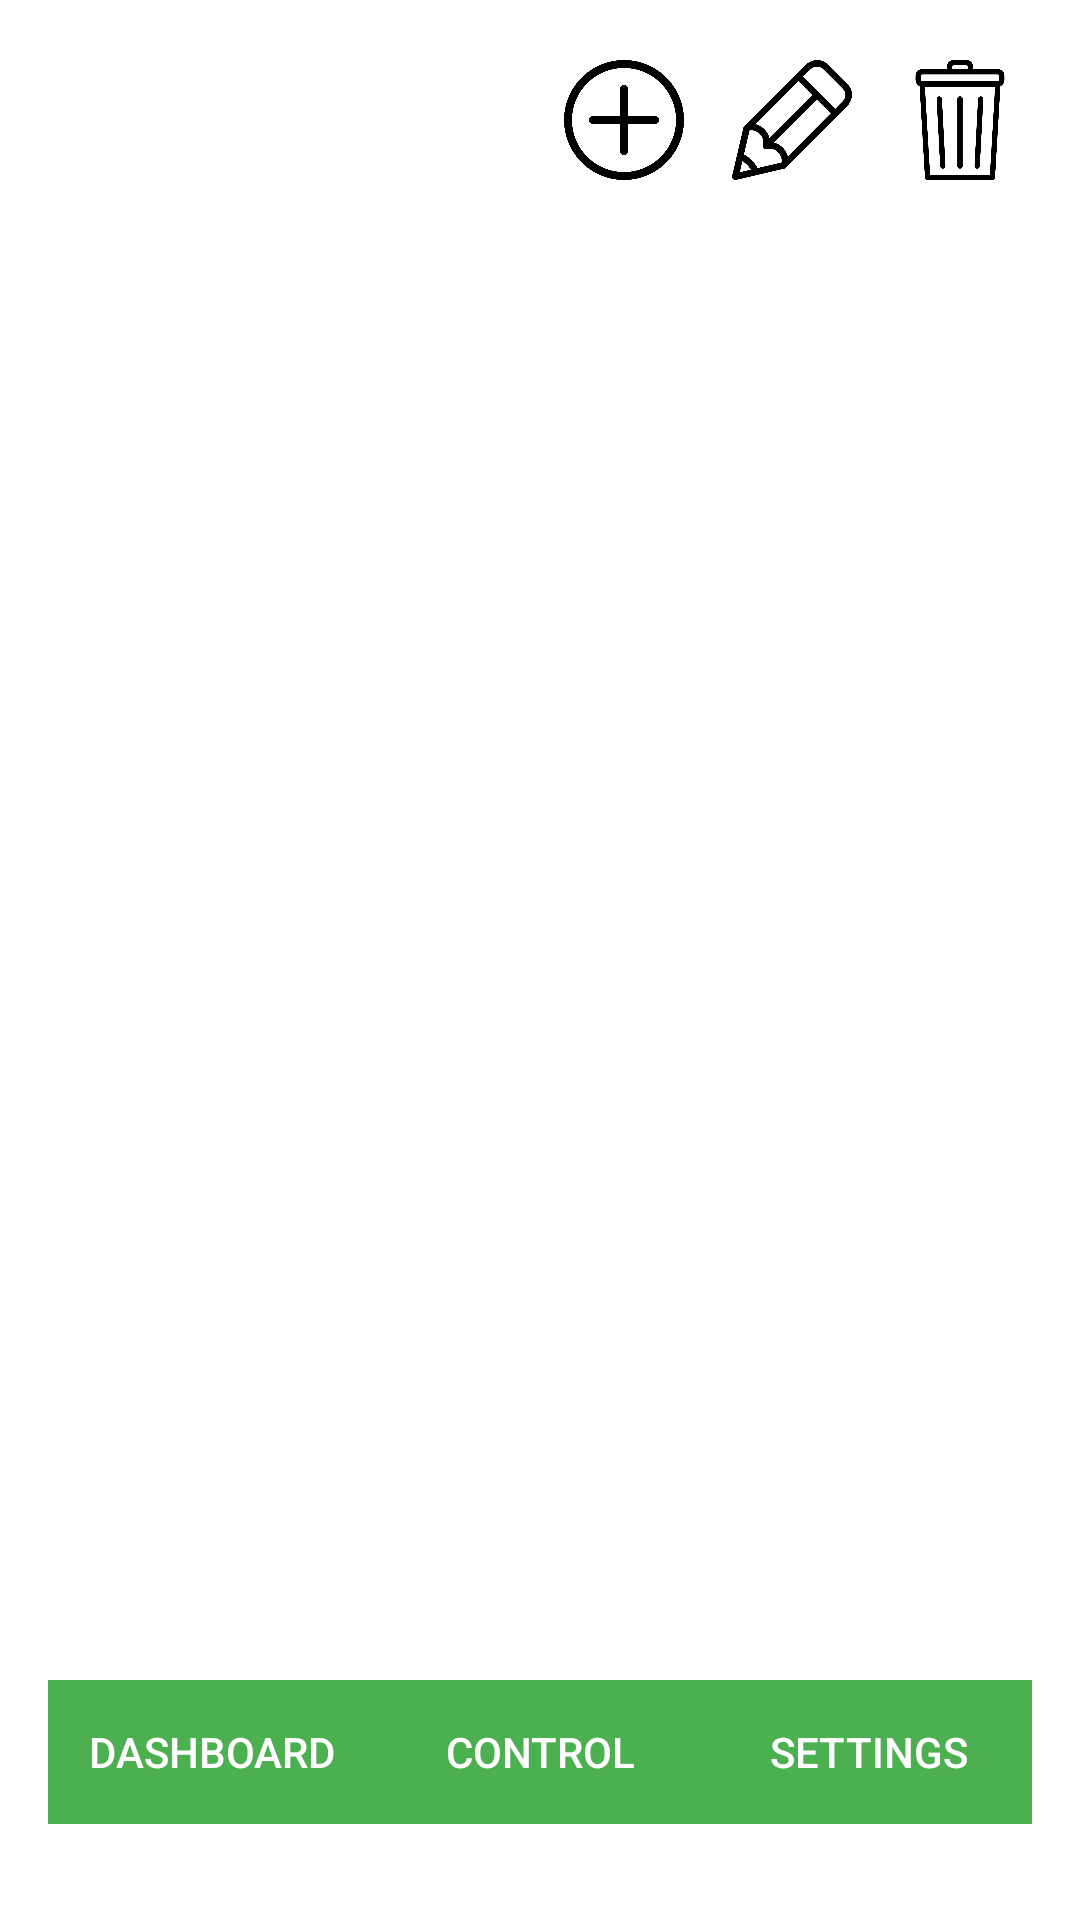

Where icons sit on this 1080w x 1920h app screen, as rect(x1, y1, x2, y2):
Add Greenhouse: rect(564, 60, 684, 180)
Delete Greenhouse: rect(915, 60, 1005, 180)
Edit Greenhouse: rect(732, 60, 852, 180)
